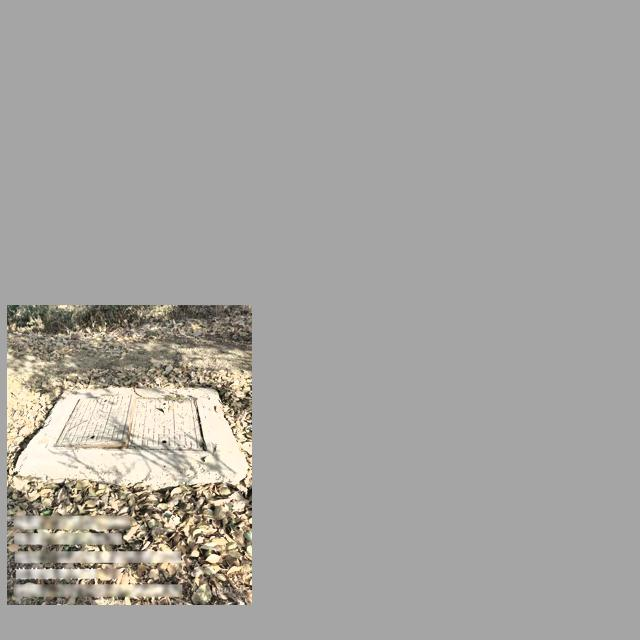uncovered: (46, 394, 213, 456)
